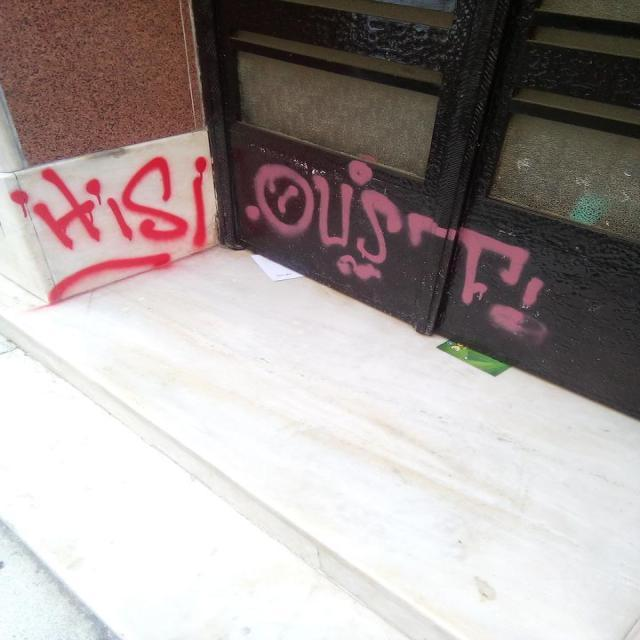nonspitting: (242, 158, 550, 336), (10, 153, 212, 306)
